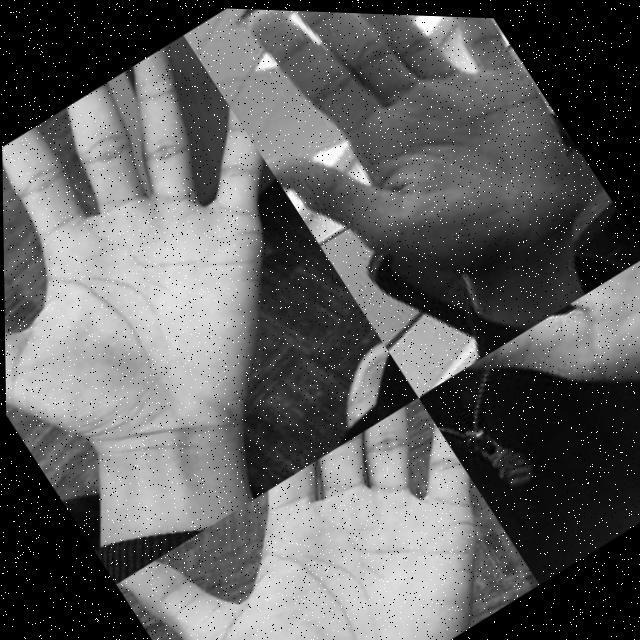no-gloves: (0, 28, 373, 522), (186, 6, 610, 340), (111, 384, 538, 640), (415, 243, 640, 583)
